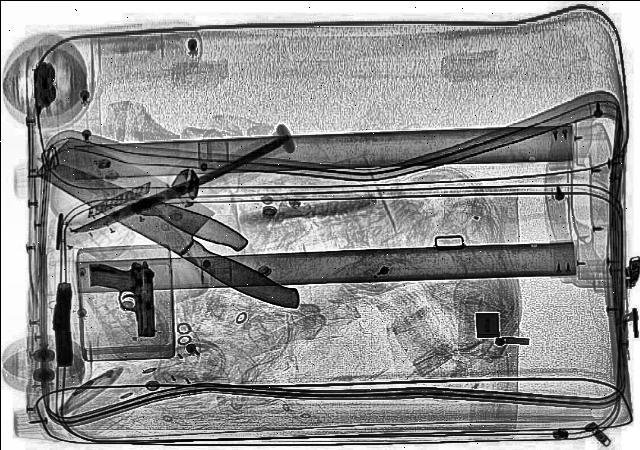Gun: (88, 260, 154, 336), (48, 281, 74, 365)
Knife: (20, 130, 338, 316), (22, 146, 255, 252), (62, 133, 296, 236)
